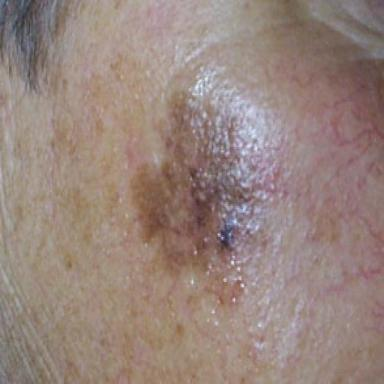Melanoma: (131, 69, 281, 306)
